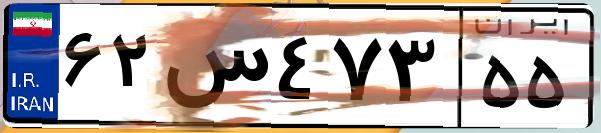2: (110, 28, 158, 98)
3: (385, 28, 445, 110)
4: (270, 28, 330, 110)
5: (475, 38, 525, 113), (525, 38, 570, 115)
6: (57, 26, 110, 100)
7: (330, 28, 385, 110)
س: (158, 20, 270, 120)
